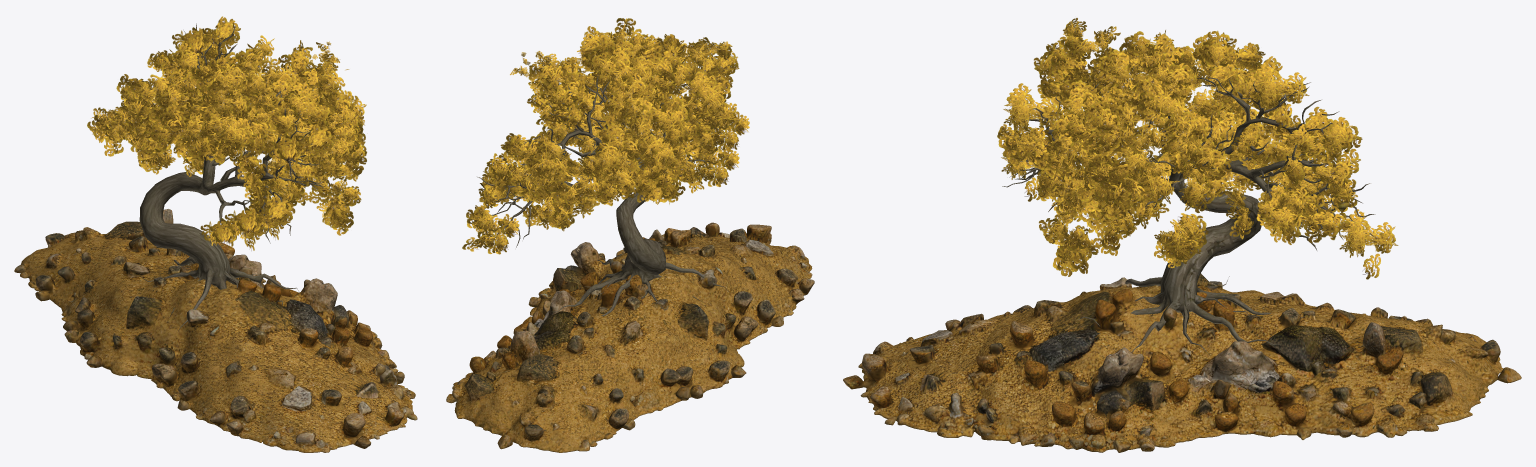
The model's file is yellow_tree.glb.
3 views of the same model, side by side, from view 1: azimuth 30°, elevation 25°; view 2: azimuth 150°, elevation 25°; view 3: azimuth 270°, elevation 25° (orthographic). The views are drawn at different scales.
Parts seen in each view (by area): view 1: tripo_node_b6d2c480-7064-4513-9203-ee80790d9a0e; view 2: tripo_node_b6d2c480-7064-4513-9203-ee80790d9a0e; view 3: tripo_node_b6d2c480-7064-4513-9203-ee80790d9a0e.
Boxes of the visible parts, bbox=[...] form: tripo_node_b6d2c480-7064-4513-9203-ee80790d9a0e: bbox=[14, 16, 417, 452]; tripo_node_b6d2c480-7064-4513-9203-ee80790d9a0e: bbox=[446, 18, 814, 452]; tripo_node_b6d2c480-7064-4513-9203-ee80790d9a0e: bbox=[843, 18, 1521, 452].
Size of the model in its own units: 0.4931 by 0.6047 by 1.
3 materials, 3 textured.
